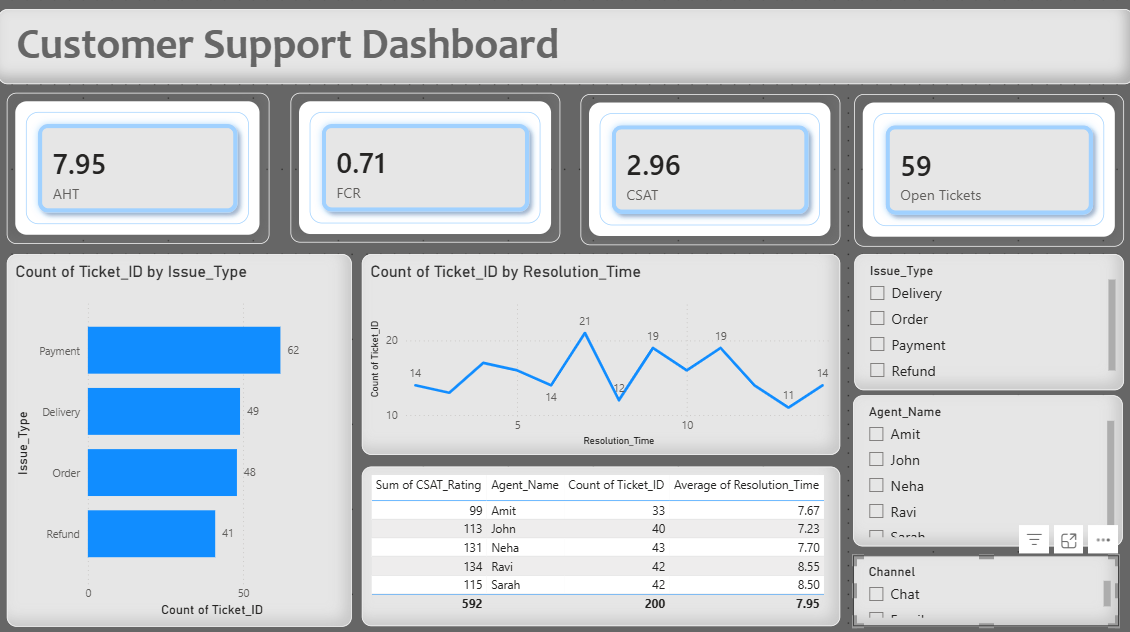

What the dashboard file says about the page in this screenshot:
{"tool":"powerbi","page":{"name":"Page 1","canvas":[1280,720],"ordinal":0},"visuals":[{"type":"textbox","box":[0,11.3,1280.3,84.5],"z":0},{"type":"cardVisual","fields":{"Data":["customer_support_dataset.AHT"]},"box":[9.9,105.6,295.8,170.4],"z":1000},{"type":"cardVisual","fields":{"Data":["customer_support_dataset.FCR"]},"box":[329.6,105.6,304.2,169],"z":2000},{"type":"cardVisual","fields":{"Data":["customer_support_dataset.CSAT"]},"box":[656.3,107,293,170.4],"z":3000},{"type":"cardVisual","fields":{"Data":["customer_support_dataset.Open Tickets"]},"box":[964.8,107,304.2,171.8],"z":4000},{"type":"barChart","fields":{"Category":["customer_support_dataset.Issue_Type"],"Y":["CountNonNull(customer_support_dataset.Ticket_ID)"]},"box":[9.9,287.3,388.7,419.7],"z":5000},{"type":"lineChart","fields":{"Y":["CountNonNull(customer_support_dataset.Ticket_ID)"],"Category":["customer_support_dataset.Resolution_Time"]},"box":[409.9,287.3,539.4,226.8],"z":6000},{"type":"tableEx","fields":{"Values":["Sum(customer_support_dataset.CSAT_Rating)","customer_support_dataset.Agent_Name","CountNonNull(customer_support_dataset.Ticket_ID)","Avg(customer_support_dataset.Resolution_Time)"]},"box":[409.9,526.8,539.4,180.3],"z":7000},{"type":"slicer","fields":{"Values":["customer_support_dataset.Issue_Type"]},"box":[964.8,287.3,304.2,153.5],"z":7001},{"type":"slicer","fields":{"Values":["customer_support_dataset.Agent_Name"]},"box":[963.4,446.5,304.2,170.4],"z":7002},{"type":"slicer","fields":{"Values":["customer_support_dataset.Channel"]},"box":[963.4,626.8,300,80.3],"z":7003}]}

Visuals, with their boxes in screenshot pixels (x1, y1, x2, y2), scaled from the page's 1280x720 canvas onto the 1130x632 screenshot:
textbox: 0 10 1129 84
cardVisual - customer_support_dataset.AHT: 9 93 270 242
cardVisual - customer_support_dataset.FCR: 291 93 560 241
cardVisual - customer_support_dataset.CSAT: 579 94 838 243
cardVisual - customer_support_dataset.Open Tickets: 852 94 1120 245
barChart - customer_support_dataset.Issue_Type x CountNonNull(customer_support_dataset.Ticket_ID): 9 252 352 621
lineChart - CountNonNull(customer_support_dataset.Ticket_ID) x customer_support_dataset.Resolution_Time: 362 252 838 451
tableEx - Sum(customer_support_dataset.CSAT_Rating) x customer_support_dataset.Agent_Name: 362 462 838 621
slicer - customer_support_dataset.Issue_Type: 852 252 1120 387
slicer - customer_support_dataset.Agent_Name: 851 392 1119 542
slicer - customer_support_dataset.Channel: 851 550 1115 621
